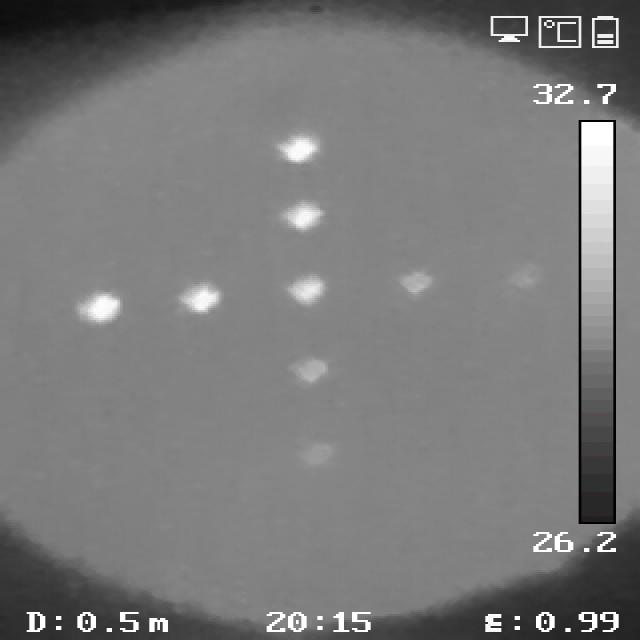Indistinguishable 4-bar target: (285, 279, 327, 304), (84, 296, 120, 322), (288, 204, 325, 227), (279, 140, 320, 160), (180, 289, 217, 309), (298, 357, 326, 380), (309, 449, 342, 465), (408, 278, 431, 297)
